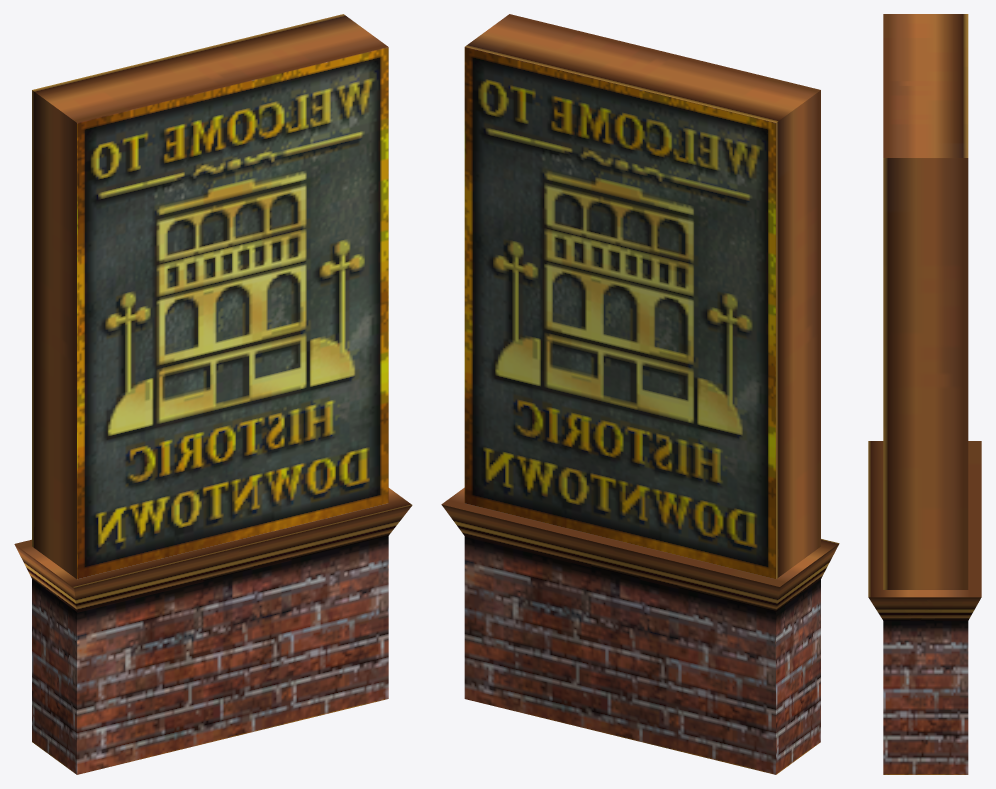
Rendered from precinct_sign01.fbx.
3 views of the same model, side by side, from view 1: azimuth 30°, elevation 25°; view 2: azimuth 150°, elevation 25°; view 3: azimuth 270°, elevation 25° (orthographic). The views are drawn at different scales.
Visible parts, largest first — view 1: mesh_0; view 2: mesh_0; view 3: mesh_0.
Boxes of the visible parts, x1,y1,x2,y2 form: mesh_0: (14,14,412,774); mesh_0: (441,14,839,774); mesh_0: (868,14,981,774).
Bounding box in the file's own units: 109 × 200 × 33.26.
Materials: 1 (1 with a texture image).
